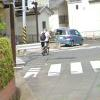crosswalks: (17, 61, 100, 78)
